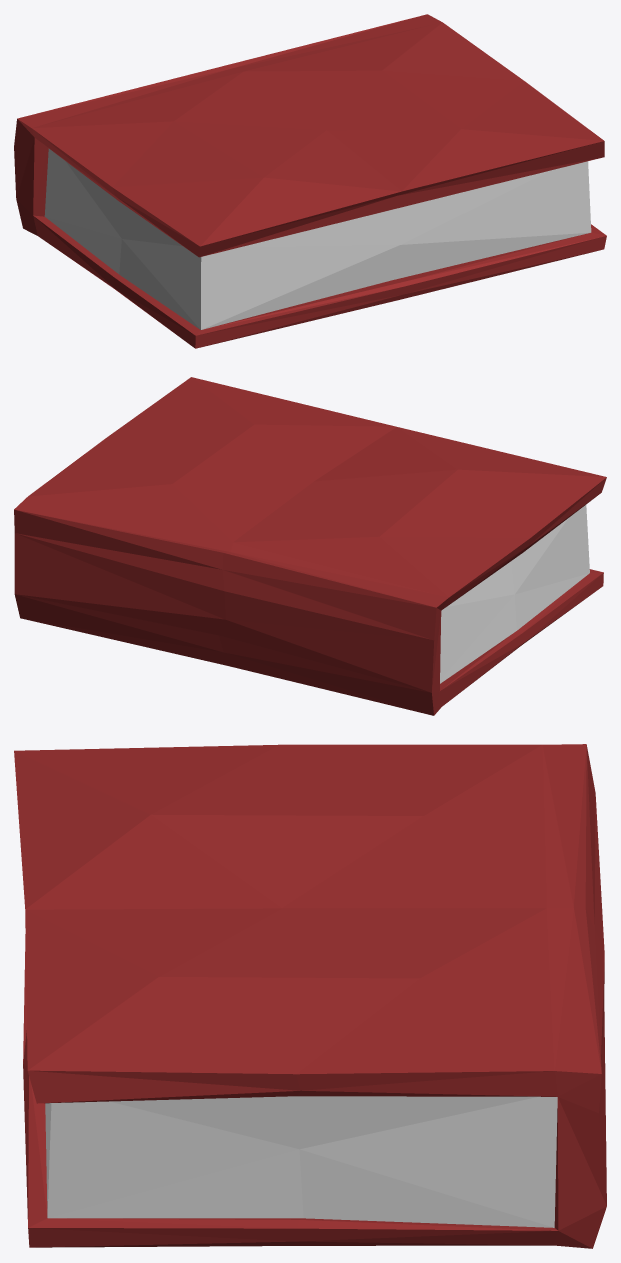
File: item_redbook.fbx
3 renders of one model, top to bottom at view 1: azimuth 30°, elevation 25°; view 2: azimuth 150°, elevation 25°; view 3: azimuth 270°, elevation 25°, orthographic. The views are drawn at different scales.
Parts seen in each view (by area): view 1: item_redbook; view 2: item_redbook; view 3: item_redbook.
Boxes of the visible parts, x1,y1,x2,y2 form: item_redbook: (14,14,606,348); item_redbook: (14,377,606,715); item_redbook: (14,744,606,1248).
Bounding box in the file's own units: 39.25 × 11.26 × 29.59.
